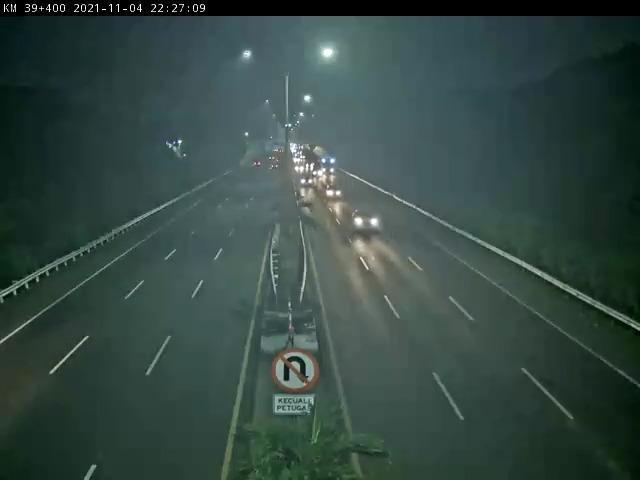car: (353, 208, 381, 234), (327, 186, 344, 201)
